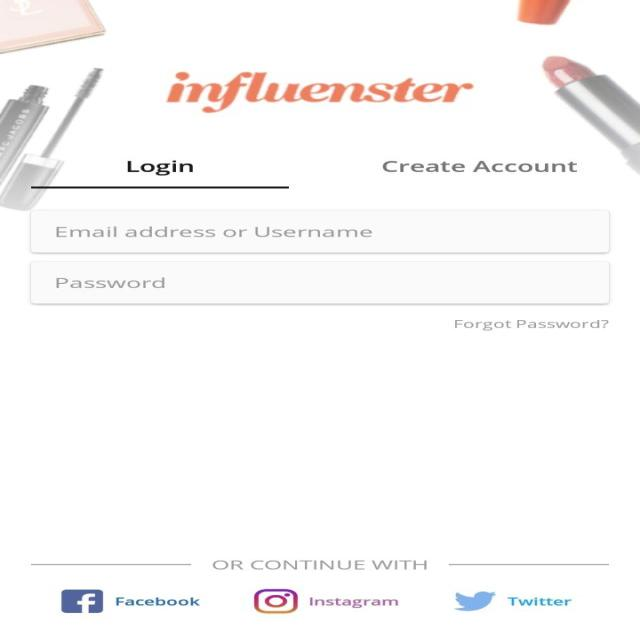EditText: (29, 260, 609, 304), (29, 210, 609, 253)
Icon: (60, 588, 104, 613), (453, 590, 496, 611)
Image: (165, 71, 474, 113), (253, 588, 298, 614)
Text: (56, 226, 372, 237), (381, 160, 577, 172), (212, 560, 426, 570), (454, 320, 608, 330), (56, 277, 164, 288), (126, 160, 193, 176), (310, 596, 398, 608), (115, 596, 201, 606), (506, 596, 572, 606)
